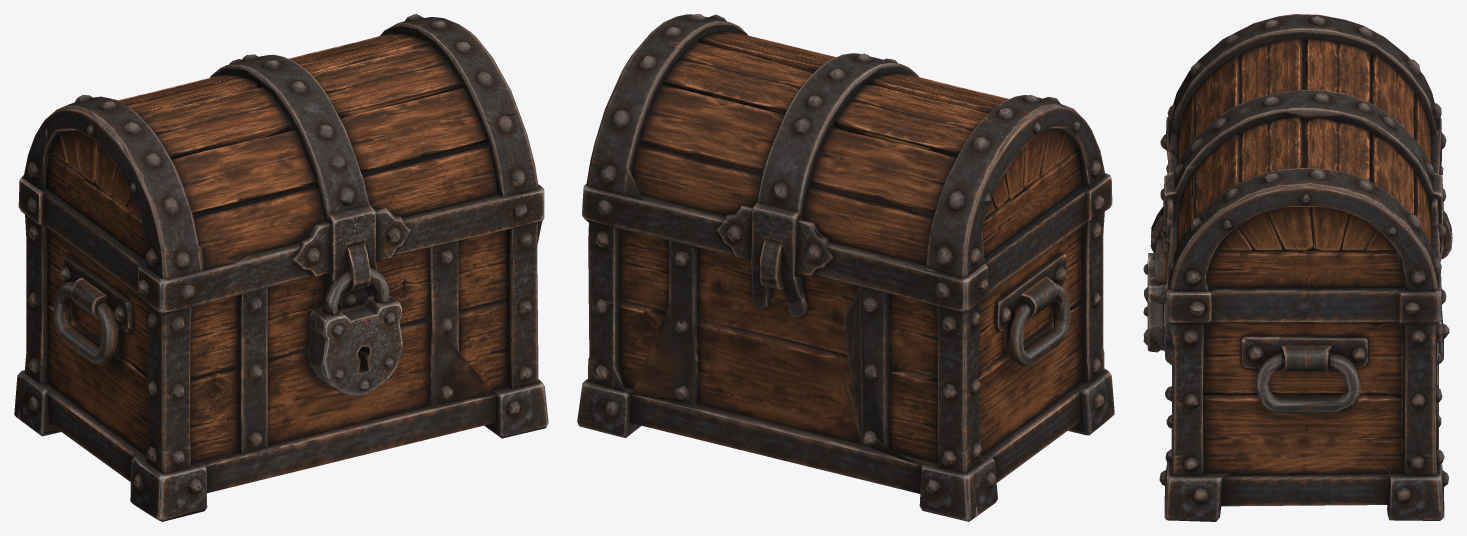
Rendered from chest.glb.
3 views of the same model, side by side, from view 1: azimuth 30°, elevation 25°; view 2: azimuth 150°, elevation 25°; view 3: azimuth 270°, elevation 25° (orthographic). The views are drawn at different scales.
Size of the model in its own units: 1.9 by 1.6 by 1.32.
Materials: 1 (1 with a texture image).
